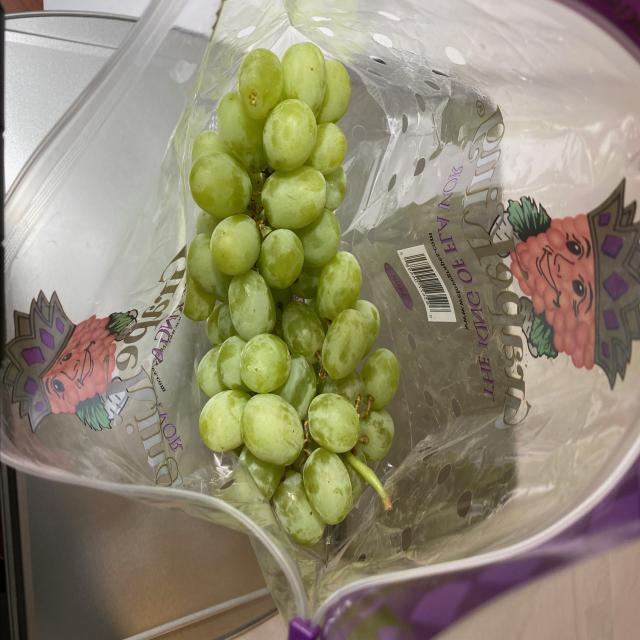grapes: (193, 41, 397, 553)
